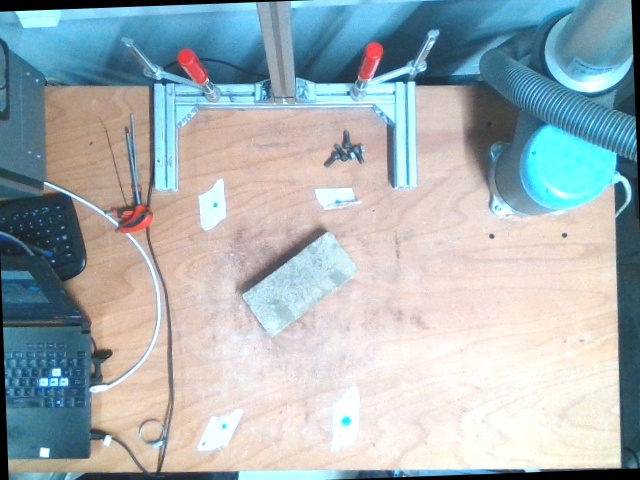brick: (243, 232, 357, 335)
